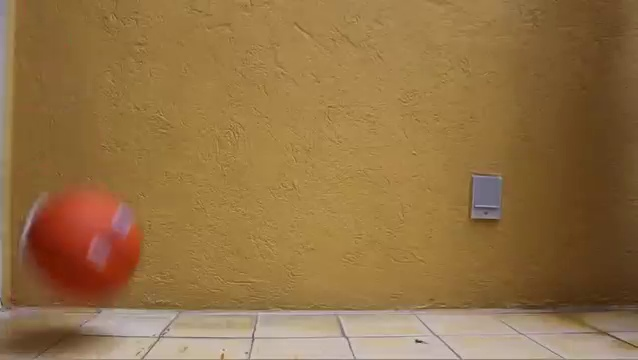ball: (20, 186, 139, 304)
